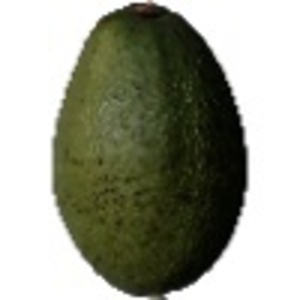abacate: (49, 1, 247, 294)
